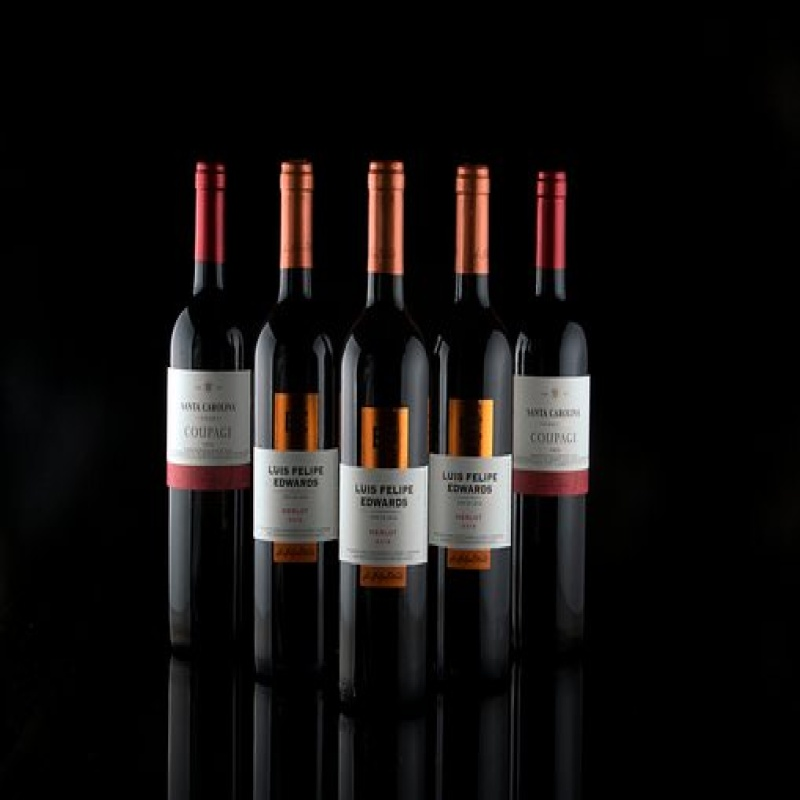wine: (345, 160, 435, 704), (169, 163, 255, 669), (255, 165, 339, 660), (433, 148, 511, 676), (515, 170, 597, 650)
